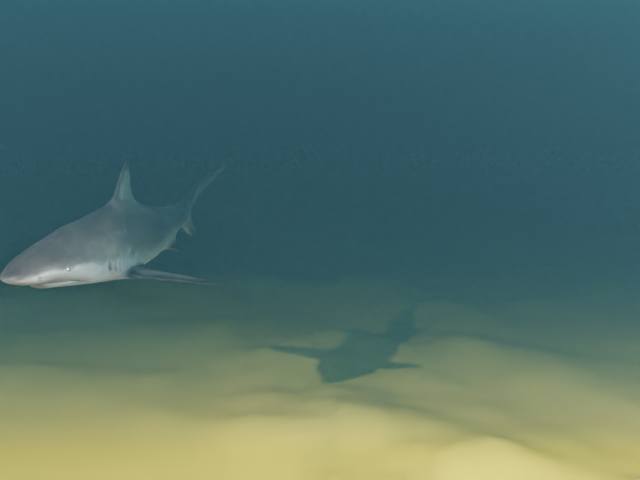Carribean Shark.001: (0, 156, 235, 288)
